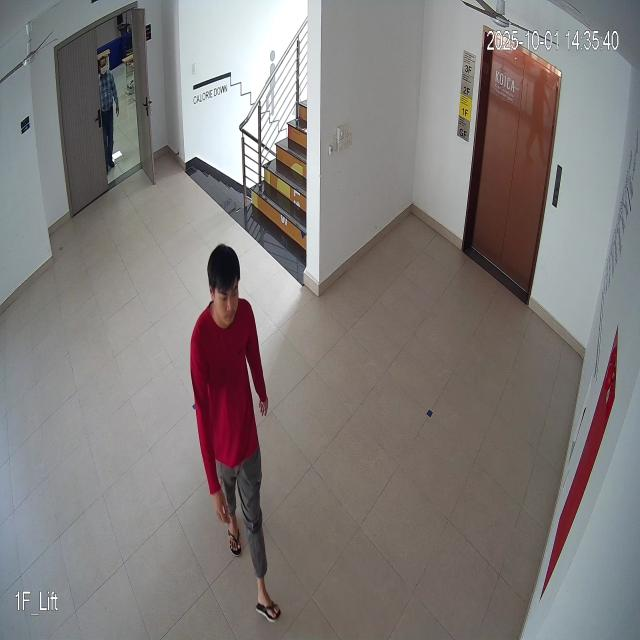face: (202, 239, 245, 334)
